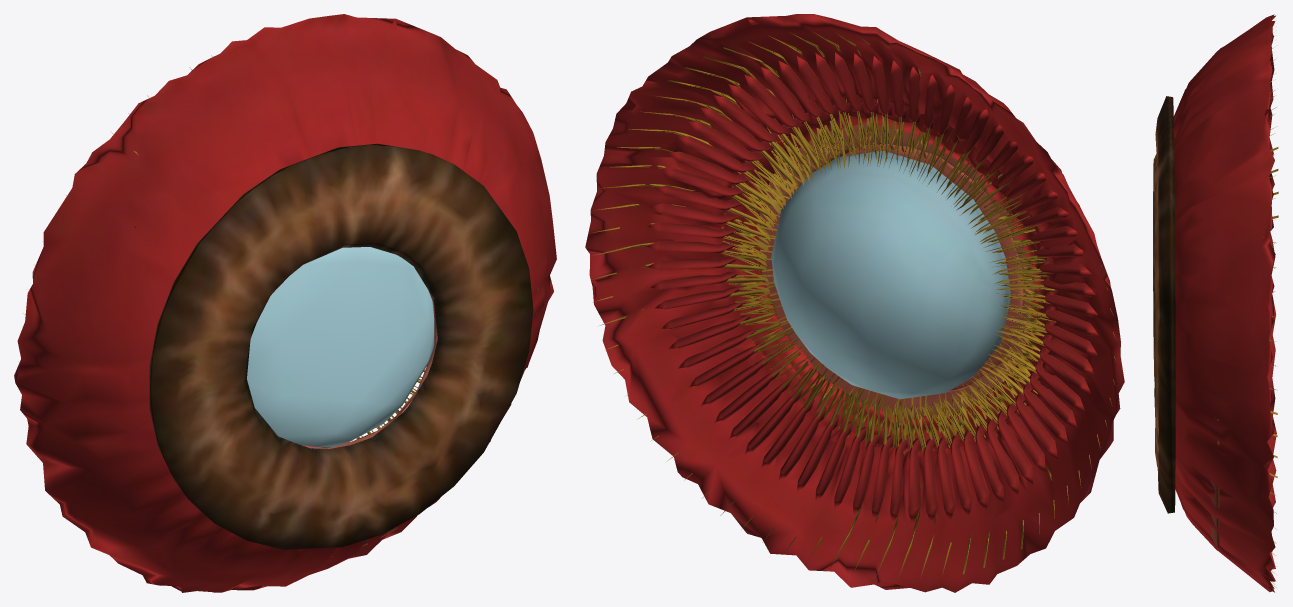
Rendered from eye-lens.glb.
3 views of the same model, side by side, from view 1: azimuth 30°, elevation 25°; view 2: azimuth 150°, elevation 25°; view 3: azimuth 270°, elevation 25° (orthographic). The views are drawn at different scales.
Parts seen in each view (by area): view 1: Right_ciliary_body, Right_iris, Right_lens_capsule, Right_pupillary_constrictor; view 2: Right_ciliary_body, Right_ciliary_processes, Right_lens_capsule, Right_zonular_fibers, Right_pupillary_dilator, Right_pupillary_constrictor; view 3: Right_ciliary_body, Right_iris, Right_longitudinal_fibers_of_ciliary_muscle, Right_zonular_fibers.
Boxes of the visible parts, bbox=[...] form: Right_ciliary_body: bbox=[14, 14, 556, 592]; Right_iris: bbox=[149, 143, 533, 549]; Right_lens_capsule: bbox=[247, 247, 434, 447]; Right_pupillary_constrictor: bbox=[301, 255, 437, 448]; Right_ciliary_body: bbox=[585, 14, 1124, 592]; Right_ciliary_processes: bbox=[646, 52, 1098, 524]; Right_lens_capsule: bbox=[771, 150, 1011, 399]; Right_zonular_fibers: bbox=[590, 31, 1115, 578]; Right_pupillary_dilator: bbox=[757, 123, 1034, 418]; Right_pupillary_constrictor: bbox=[822, 144, 1023, 390]; Right_ciliary_body: bbox=[1173, 14, 1276, 592]; Right_iris: bbox=[1153, 96, 1175, 513]; Right_longitudinal_fibers_of_ciliary_muscle: bbox=[1208, 417, 1219, 548]; Right_zonular_fibers: bbox=[1268, 16, 1278, 587].
Size of the model in its own units: 0.0224 by 0.0224 by 0.00482.
9 materials, 9 textured.
